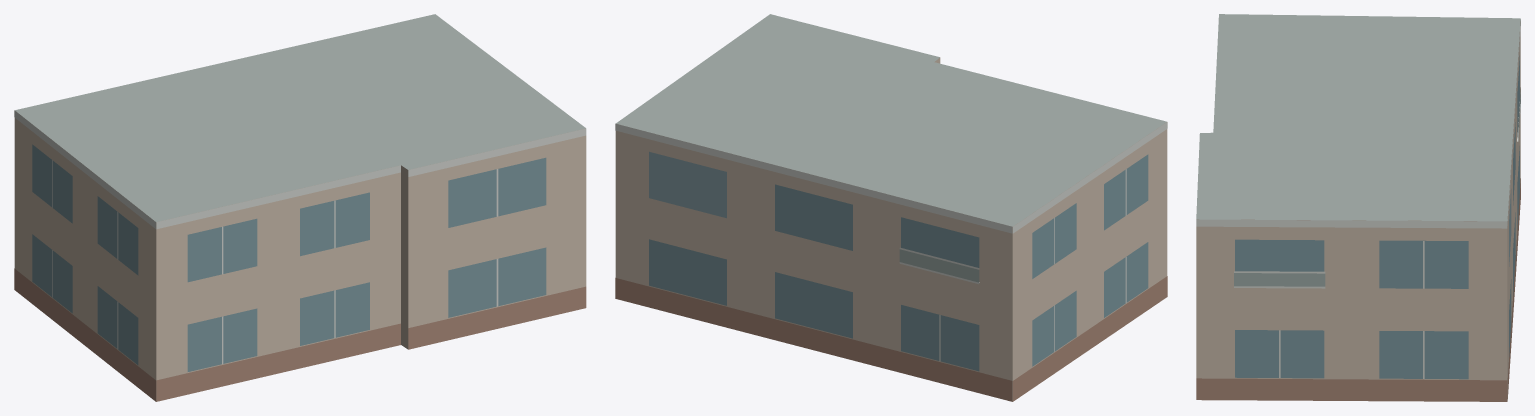
Rendered from survey-upis-32941036.glb.
The picture shows the model from 3 angles, left to right: view 1: azimuth 30°, elevation 25°; view 2: azimuth 150°, elevation 25°; view 3: azimuth 270°, elevation 25°; orthographic projection. The views are drawn at different scales.
Parts seen in each view (by area): view 1: survey-upis-32941036.tmp; view 2: survey-upis-32941036.tmp; view 3: survey-upis-32941036.tmp.
Part boxes in pixels (x1=…): survey-upis-32941036.tmp: x1=14, y1=14, x2=586, y2=401; survey-upis-32941036.tmp: x1=615, y1=14, x2=1167, y2=401; survey-upis-32941036.tmp: x1=1196, y1=14, x2=1520, y2=401.
Bounding box in the file's own units: 15.03 × 6.1 × 9.95.
